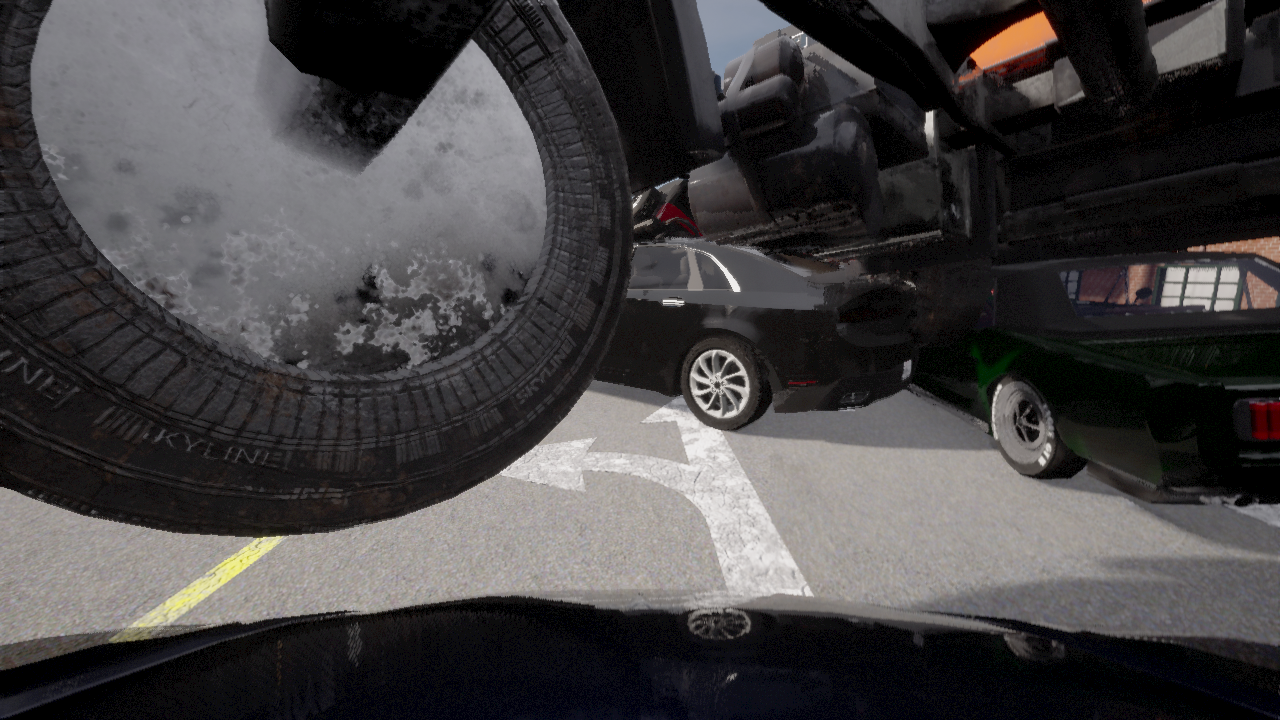cyclist: (0, 588, 1279, 719), (903, 252, 1279, 506), (593, 237, 918, 430), (632, 180, 704, 241), (803, 252, 839, 265)
